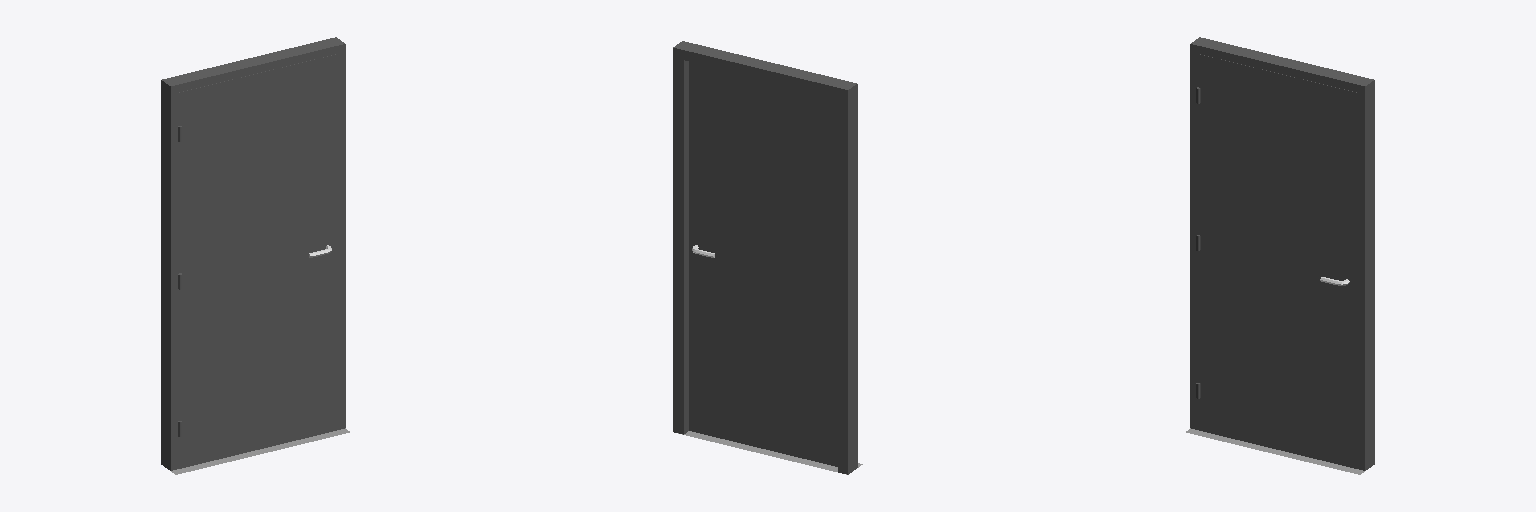
Rendered from Door1.obj.
3 views of the same model, side by side, from view 1: azimuth 30°, elevation 25°; view 2: azimuth 150°, elevation 25°; view 3: azimuth 330°, elevation 25° (orthographic).
Visible parts, largest first — view 1: Porte_6, Montant_7, ground_1; view 2: Porte_6, Montant_7, ground_1; view 3: Porte_6, Montant_7, ground_1.
Part boxes in pixels (x1,y1,x2,y2): Porte_6: (179,54,336,468); Montant_7: (161,37,345,470); ground_1: (171,428,349,474); Porte_6: (689,62,837,466); Montant_7: (673,41,857,474); ground_1: (678,431,862,474); Porte_6: (1199,54,1356,468); Montant_7: (1190,37,1374,470); ground_1: (1186,428,1364,474).
Bounding box in the file's own units: 100 × 210 × 14.6.